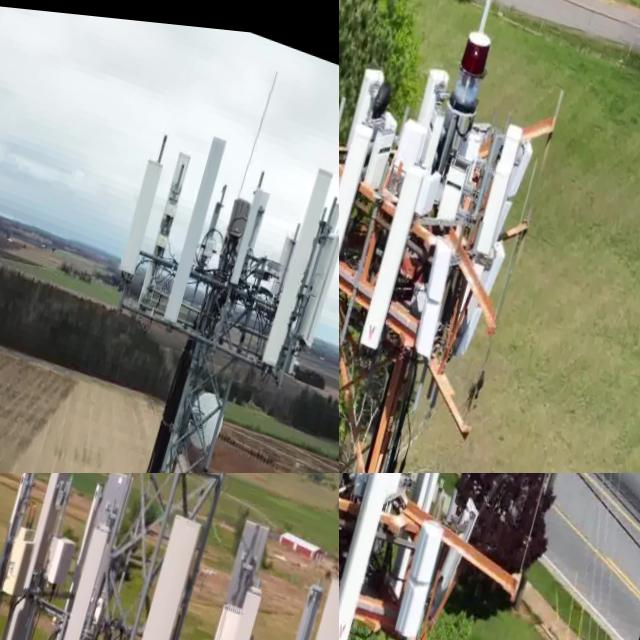GSM Antenna: (348, 140, 434, 362), (257, 142, 337, 368), (95, 492, 208, 640), (157, 113, 233, 330), (0, 473, 79, 640), (36, 508, 118, 640), (339, 473, 400, 640), (339, 96, 383, 318), (465, 106, 532, 251), (400, 221, 465, 361), (423, 482, 486, 620), (389, 501, 451, 640), (246, 551, 339, 640), (114, 139, 172, 280), (185, 559, 273, 640), (145, 135, 196, 272), (290, 212, 339, 351), (258, 552, 325, 640), (173, 373, 231, 452), (225, 175, 265, 287), (405, 473, 456, 510)
